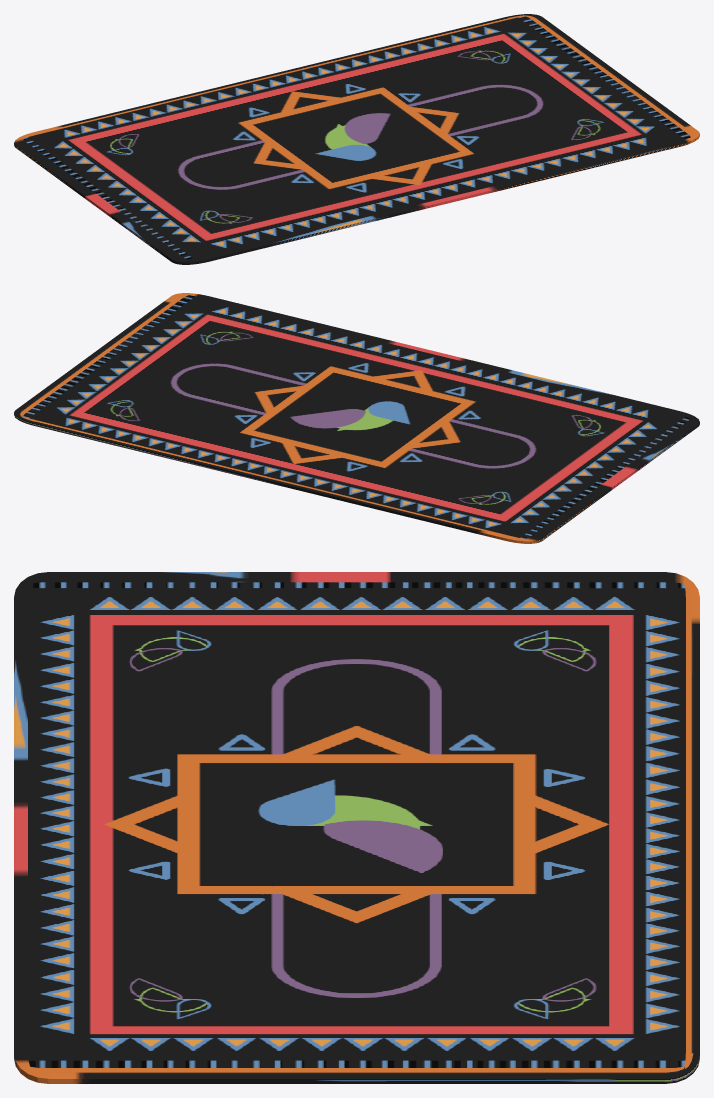
Rendered from tapete.fbx.
The picture shows the model from 3 angles, top to bottom: view 1: azimuth 30°, elevation 25°; view 2: azimuth 150°, elevation 25°; view 3: azimuth 270°, elevation 25°; orthographic projection. The views are drawn at different scales.
Visible parts, largest first — view 1: Cube; view 2: Cube; view 3: Cube.
Boxes of the visible parts, box(x1,y1,x2,y2) form: Cube: box(14, 14, 699, 264); Cube: box(14, 293, 699, 543); Cube: box(14, 572, 699, 1083).
Size of the model in its own units: 577 by 3.03 by 330.
Materials: 1 (1 with a texture image).
